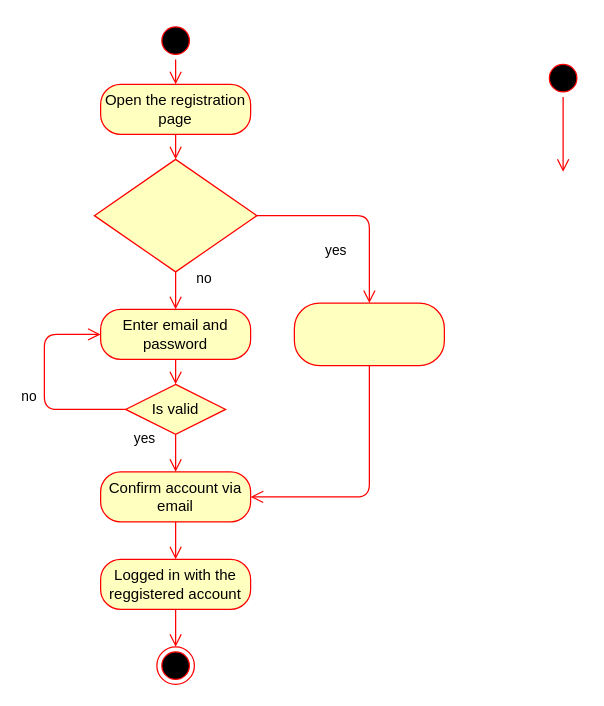
The diagram is 604 pixels wide and 706 high, and some of its shapes have lost their labels. Here are the shapes that lost their labels. From the top down, the centre of each, then its label:
At point (175, 215): "Use external account (Google, Facebook,...)".
At point (368, 334): "Choose an external account".
